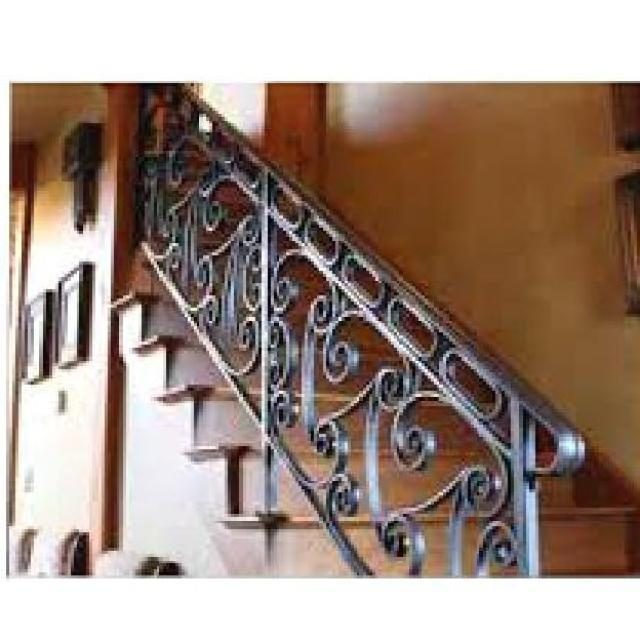stair: (108, 86, 637, 579)
